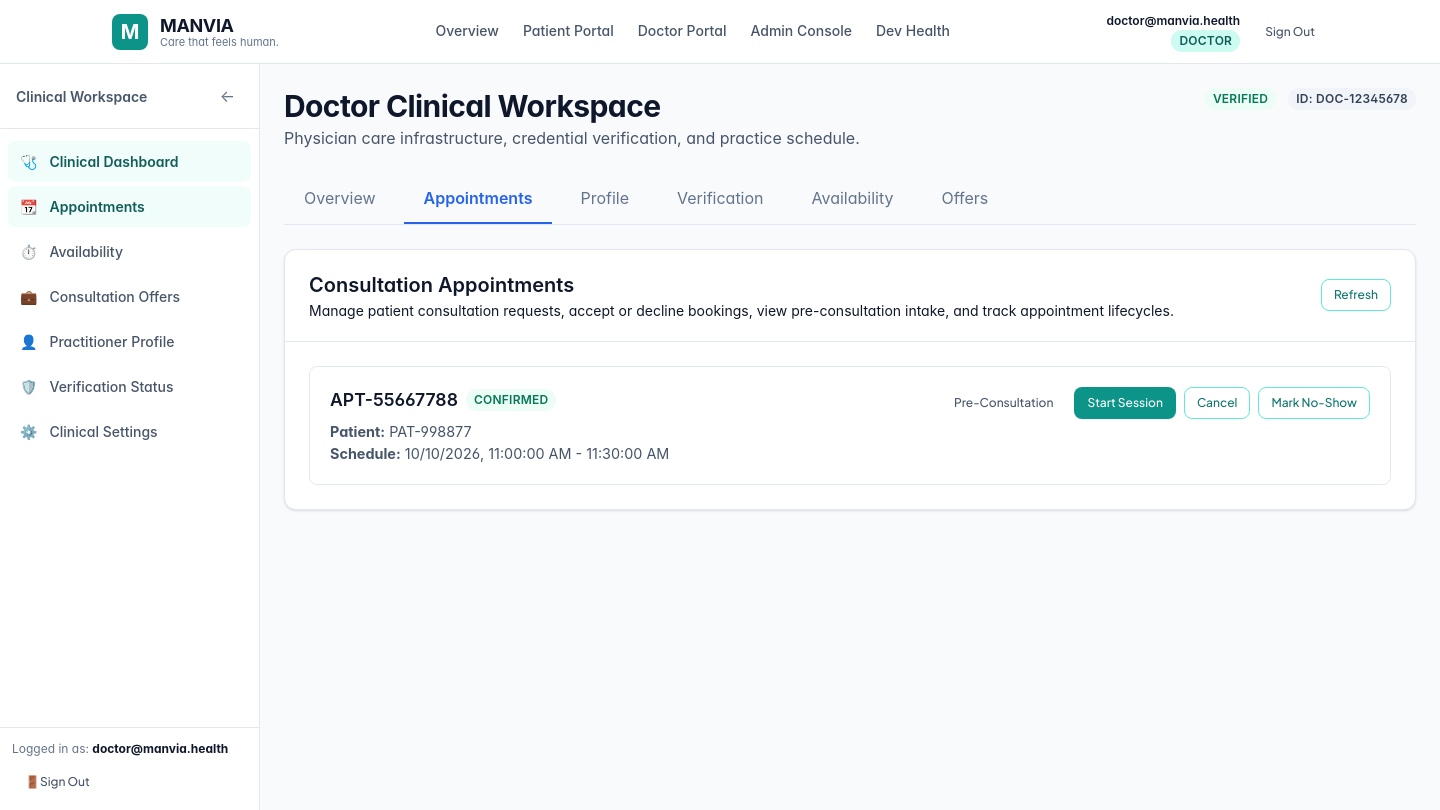
Test: P5: Doctor Portal Prototype Flows › inspects pre-consultation intake details from doctor appointment list
Check: the text "APT-55667788" is shown, box [330,386,458,413]
Step 1. Click the button "Pre-Consultation" → (1004, 402), box [941,386,1066,418]
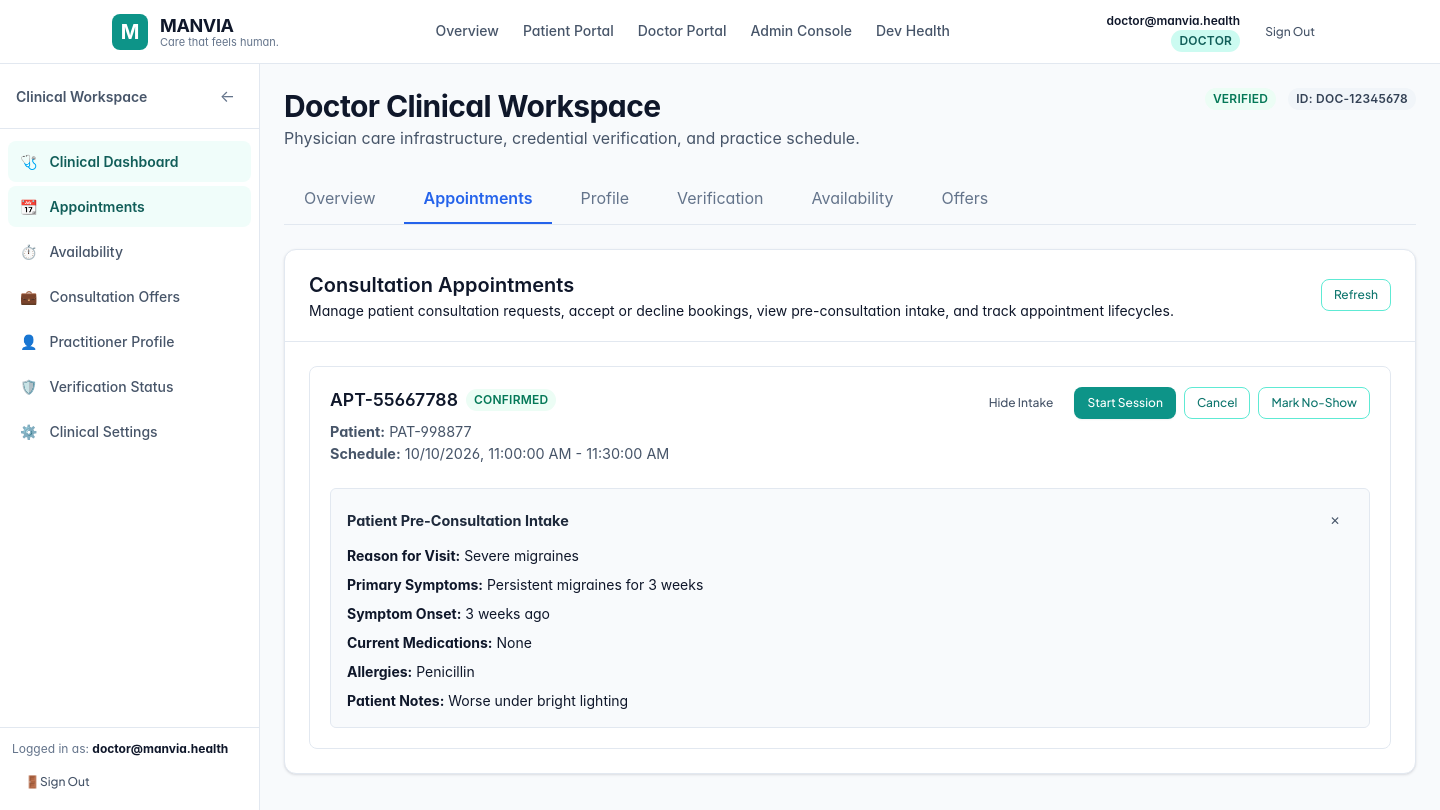
Check: the text "Primary Symptoms: Persistent migraines for 3 weeks" is shown, box [347,576,703,593]
Check: the text "Reason for Visit: Severe migraines" is shown, box [347,547,579,564]
